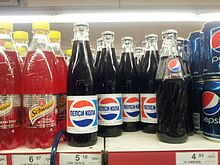pepsi: (70, 100, 93, 126), (201, 89, 219, 114), (99, 97, 118, 119), (124, 96, 138, 116), (143, 96, 156, 117), (209, 28, 219, 51), (211, 28, 219, 51), (168, 58, 180, 71)
